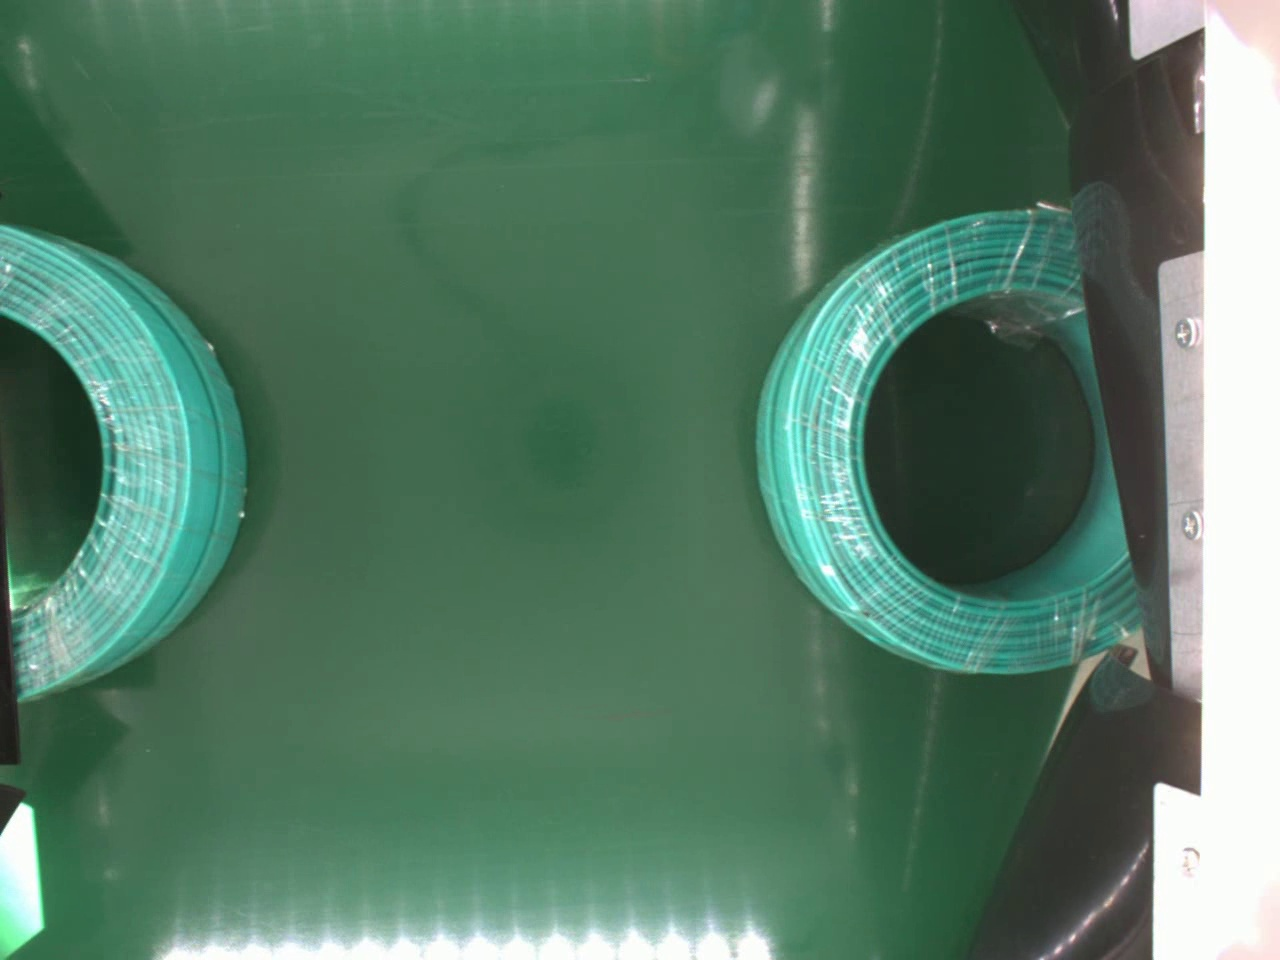green: (751, 204, 1139, 675), (0, 221, 249, 702)
